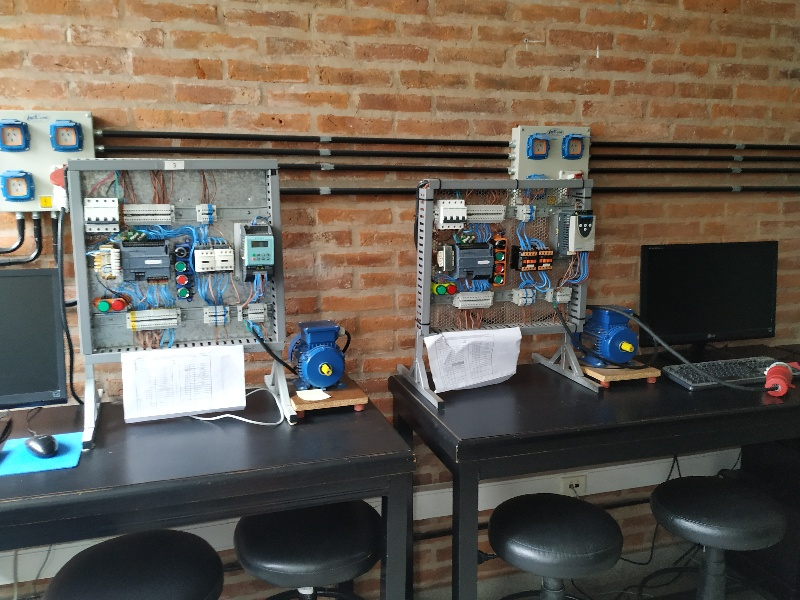Tablero 3: (74, 165, 280, 350)
Tablero 4: (427, 179, 596, 325)
